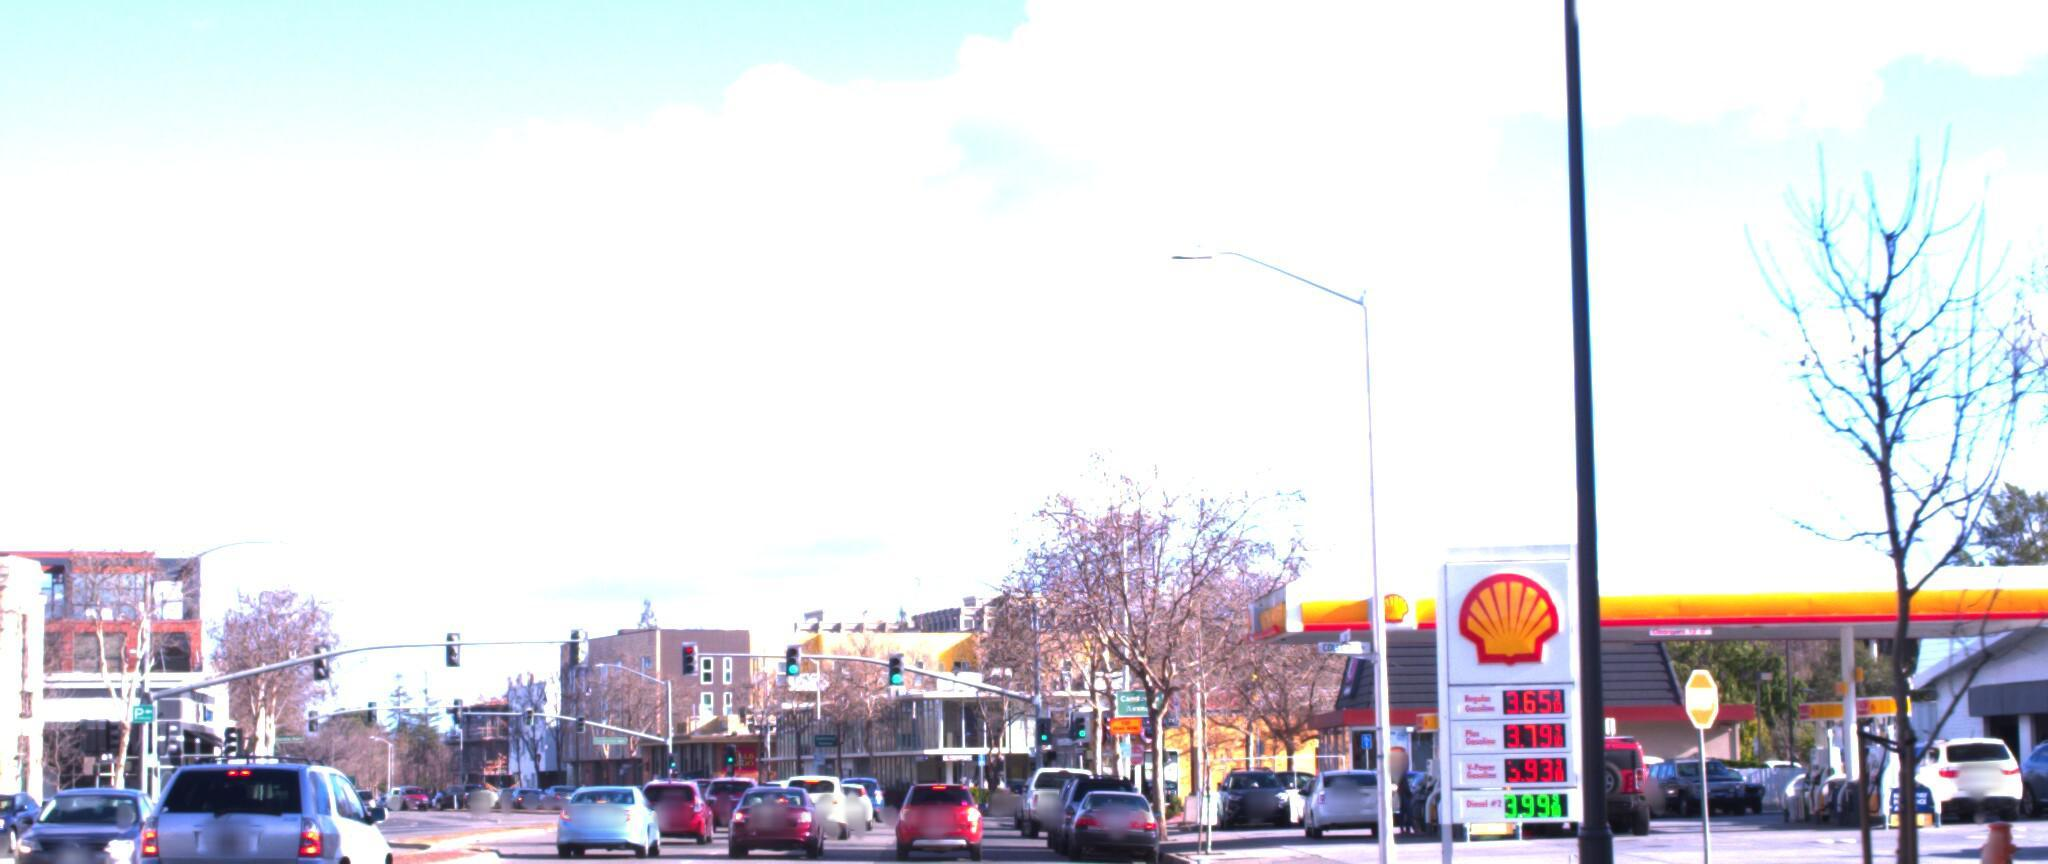car: (125, 737, 402, 864), (5, 757, 182, 864), (1509, 711, 1654, 817), (1877, 714, 2021, 804), (552, 761, 658, 844), (1059, 764, 1162, 846), (734, 760, 829, 843), (1041, 754, 1138, 837), (1293, 747, 1394, 825), (892, 758, 981, 843), (644, 764, 725, 831), (1014, 745, 1085, 809), (786, 754, 859, 817)
